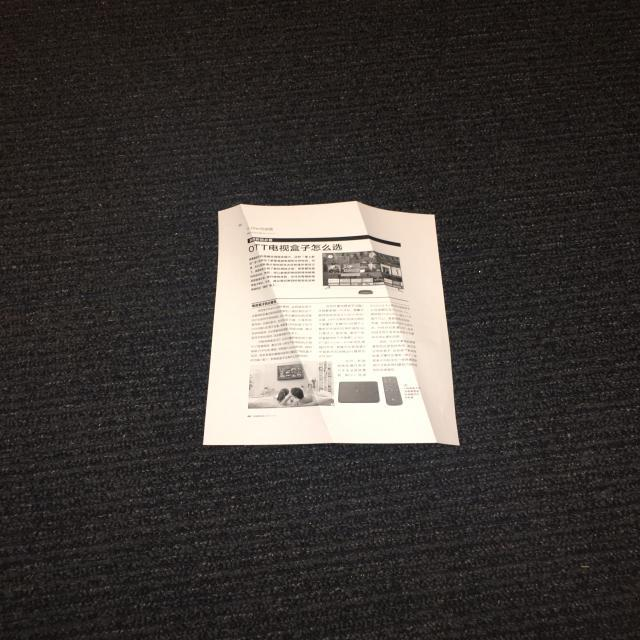document: (203, 201, 458, 445)
